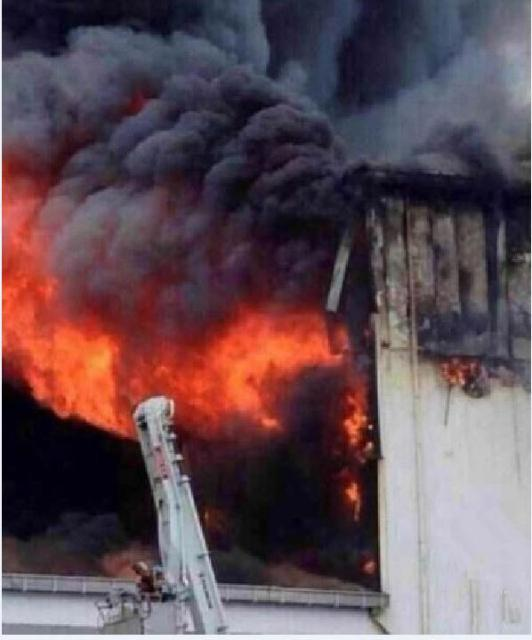fire: (28, 324, 117, 422), (213, 313, 333, 375), (175, 356, 257, 432), (0, 244, 35, 370), (117, 358, 188, 392), (343, 374, 367, 446), (343, 478, 359, 516)
